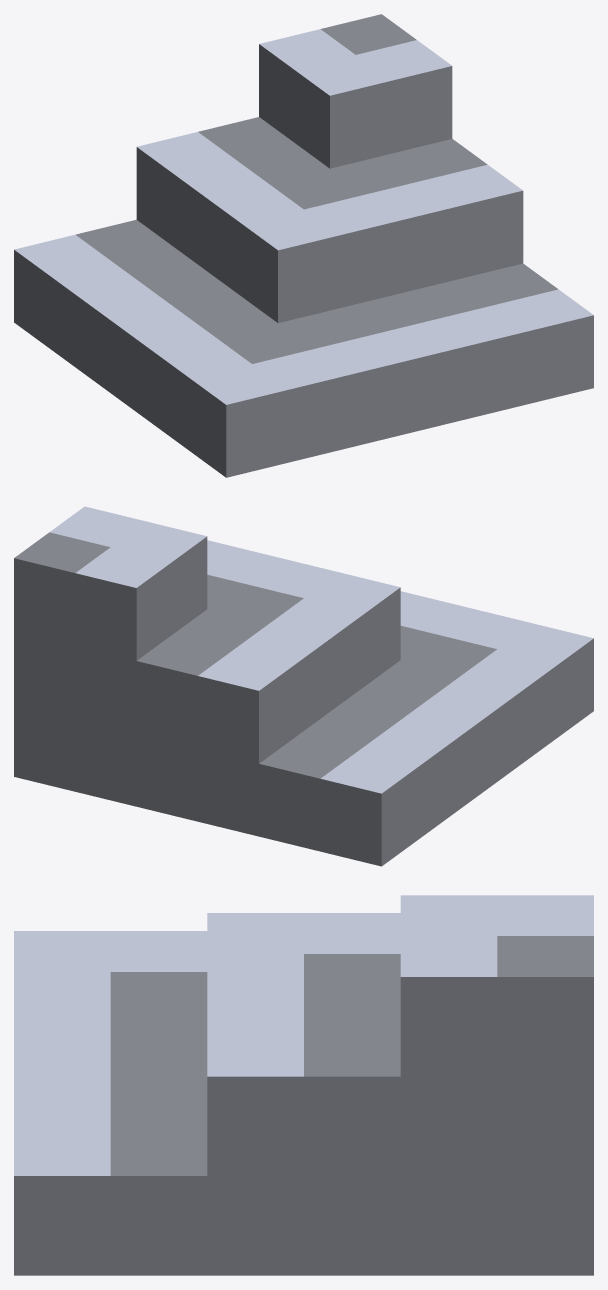
3 renders of one model, top to bottom at view 1: azimuth 30°, elevation 25°; view 2: azimuth 150°, elevation 25°; view 3: azimuth 270°, elevation 25°, orthographic. The views are drawn at different scales.
Parts seen in each view (by area): view 1: object_072; view 2: object_072; view 3: object_072.
Boxes of the visible parts, x1,y1,x2,y2 form: object_072: (14,14,593,477); object_072: (14,506,593,866); object_072: (14,895,593,1275).
Size of the model in its own units: 2.47 by 1.41 by 2.47.
